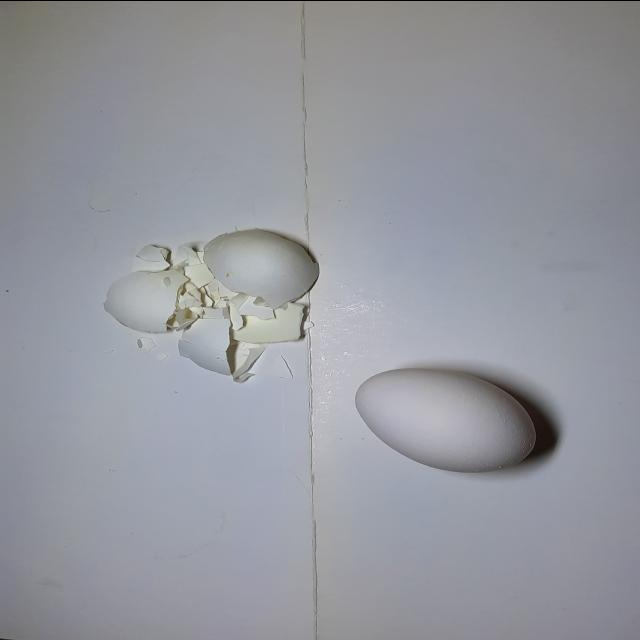egg shell: (345, 362, 545, 476), (90, 252, 205, 338), (201, 232, 315, 306), (175, 304, 248, 384), (220, 301, 315, 344)
